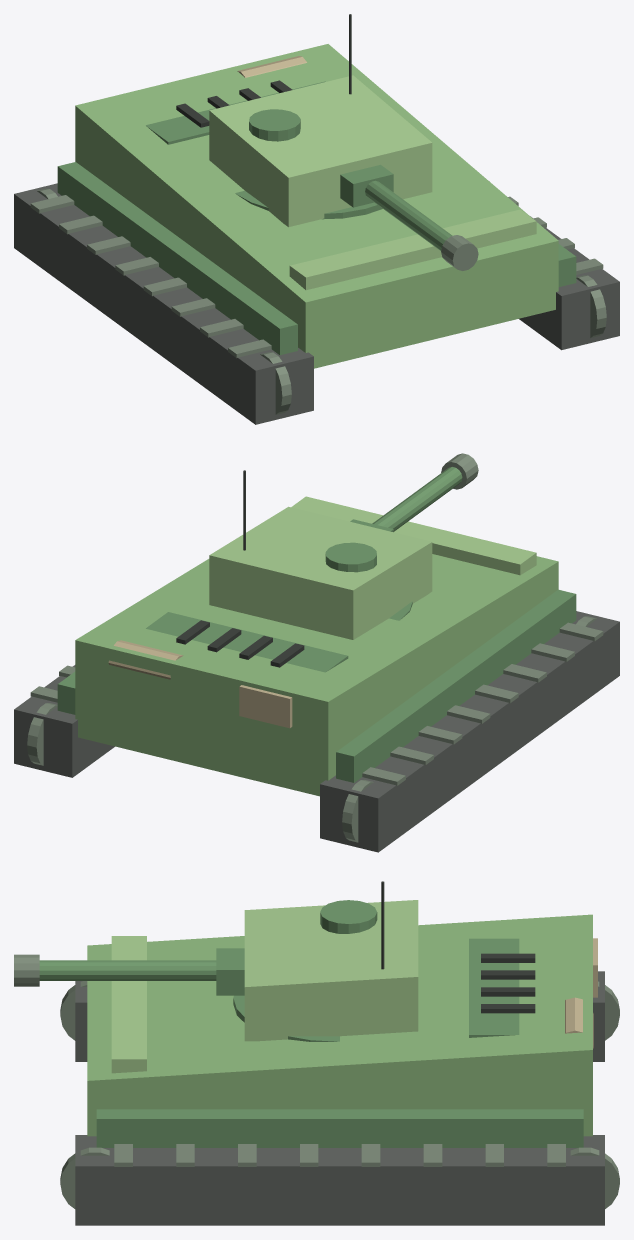
File: tank.glb
3 renders of one model, top to bottom at view 1: azimuth 30°, elevation 25°; view 2: azimuth 150°, elevation 25°; view 3: azimuth 270°, elevation 25°, orthographic. The views are drawn at different scales.
Visible parts, largest first — view 1: hull_sloped_main, left_continuous_track, turret_sloped_body, left_track_guard, front_upper_armor, right_continuous_track, main_barrel, round_hatch, gun_mount, rear_engine_deck, muzzle, left_end_wheel_1 (+4 smaller); view 2: hull_sloped_main, left_continuous_track, turret_sloped_body, left_track_guard, right_continuous_track, front_upper_armor, rear_engine_deck, main_barrel, rear_crate, round_hatch, left_end_wheel_0, right_end_wheel_0 (+3 smaller); view 3: hull_sloped_main, right_continuous_track, turret_sloped_body, right_track_guard, front_upper_armor, main_barrel, rear_engine_deck, left_continuous_track, round_hatch, gun_mount, right_end_wheel_1, muzzle (+9 smaller).
Part boxes in pixels (x1=…): hull_sloped_main: x1=75, y1=44, x2=558, y2=368; left_continuous_track: x1=14, y1=183, x2=313, y2=424; turret_sloped_body: x1=209, y1=75, x2=432, y2=227; left_track_guard: x1=57, y1=162, x2=297, y2=355; front_upper_armor: x1=289, y1=209, x2=536, y2=290; right_continuous_track: x1=519, y1=216, x2=619, y2=350; main_barrel: x1=365, y1=180, x2=452, y2=250; round_hatch: x1=249, y1=109, x2=300, y2=141; gun_mount: x1=340, y1=164, x2=393, y2=207; rear_engine_deck: x1=146, y1=81, x2=325, y2=144; muzzle: x1=441, y1=235, x2=478, y2=270; left_end_wheel_1: x1=260, y1=352, x2=291, y2=414; hull_sloped_main: x1=75, y1=554, x2=558, y2=796; left_continuous_track: x1=320, y1=611, x2=619, y2=852; turret_sloped_body: x1=209, y1=506, x2=432, y2=639; left_track_guard: x1=336, y1=589, x2=576, y2=782; right_continuous_track: x1=14, y1=665, x2=114, y2=777; front_upper_armor: x1=291, y1=496, x2=536, y2=575; rear_engine_deck: x1=146, y1=612, x2=348, y2=672; main_barrel: x1=372, y1=467, x2=462, y2=531; rear_crate: x1=239, y1=685, x2=292, y2=728; round_hatch: x1=325, y1=542, x2=376, y2=572; left_end_wheel_0: x1=342, y1=780, x2=373, y2=842; right_end_wheel_0: x1=27, y1=703, x2=57, y2=765; hull_sloped_main: x1=87, y1=914, x2=592, y2=1136; right_continuous_track: x1=75, y1=1135, x2=604, y2=1225; turret_sloped_body: x1=244, y1=900, x2=418, y2=1041; right_track_guard: x1=96, y1=1109, x2=583, y2=1147; front_upper_armor: x1=111, y1=936, x2=146, y2=1073; main_barrel: x1=39, y1=960, x2=216, y2=980; rear_engine_deck: x1=469, y1=938, x2=519, y2=1037; left_continuous_track: x1=75, y1=971, x2=604, y2=1061; round_hatch: x1=320, y1=900, x2=377, y2=933; gun_mount: x1=216, y1=948, x2=244, y2=995; right_end_wheel_1: x1=60, y1=1147, x2=109, y2=1208; muzzle: x1=14, y1=954, x2=39, y2=986.
Bounding box in the file's own units: 3.26 × 2.13 × 4.25.
